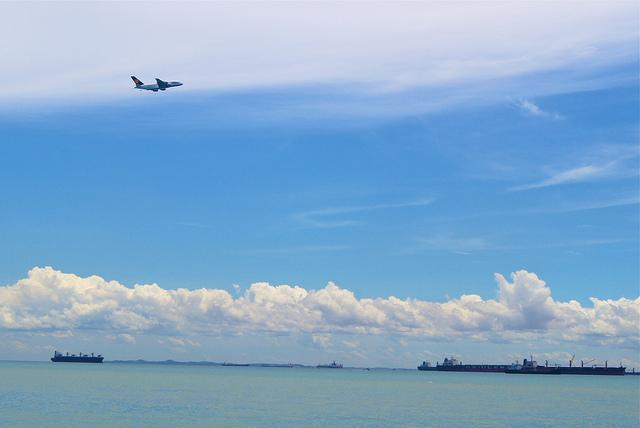airplane: (129, 74, 185, 93)
